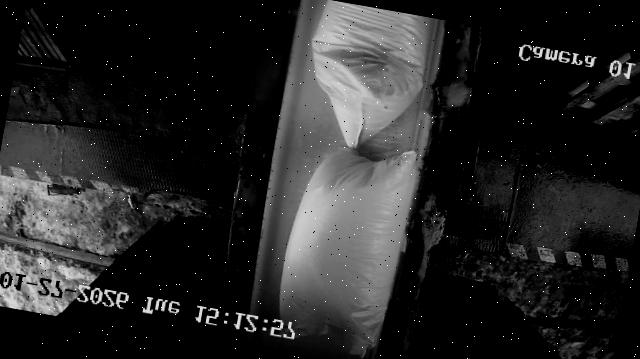bag: (269, 132, 418, 359), (294, 0, 435, 157)
